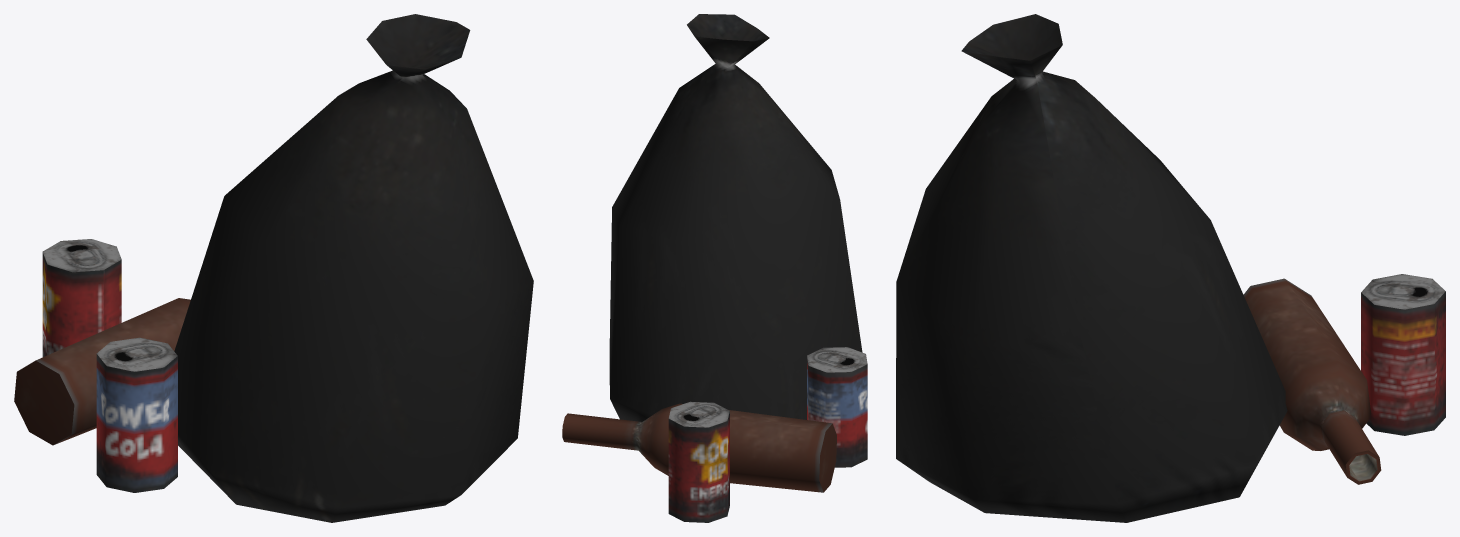
File: Garbage_02_LOD1.fbx
3 renders of one model, left to right at view 1: azimuth 30°, elevation 25°; view 2: azimuth 150°, elevation 25°; view 3: azimuth 270°, elevation 25°, orthographic. The views are drawn at different scales.
Visible parts, largest first — view 1: polySurface859; view 2: polySurface859; view 3: polySurface859.
Part boxes in pixels (bbox=[...]): polySurface859: bbox=[14, 14, 533, 522]; polySurface859: bbox=[562, 14, 867, 522]; polySurface859: bbox=[896, 14, 1445, 522].
Size of the model in its own units: 102 by 117 by 123.
